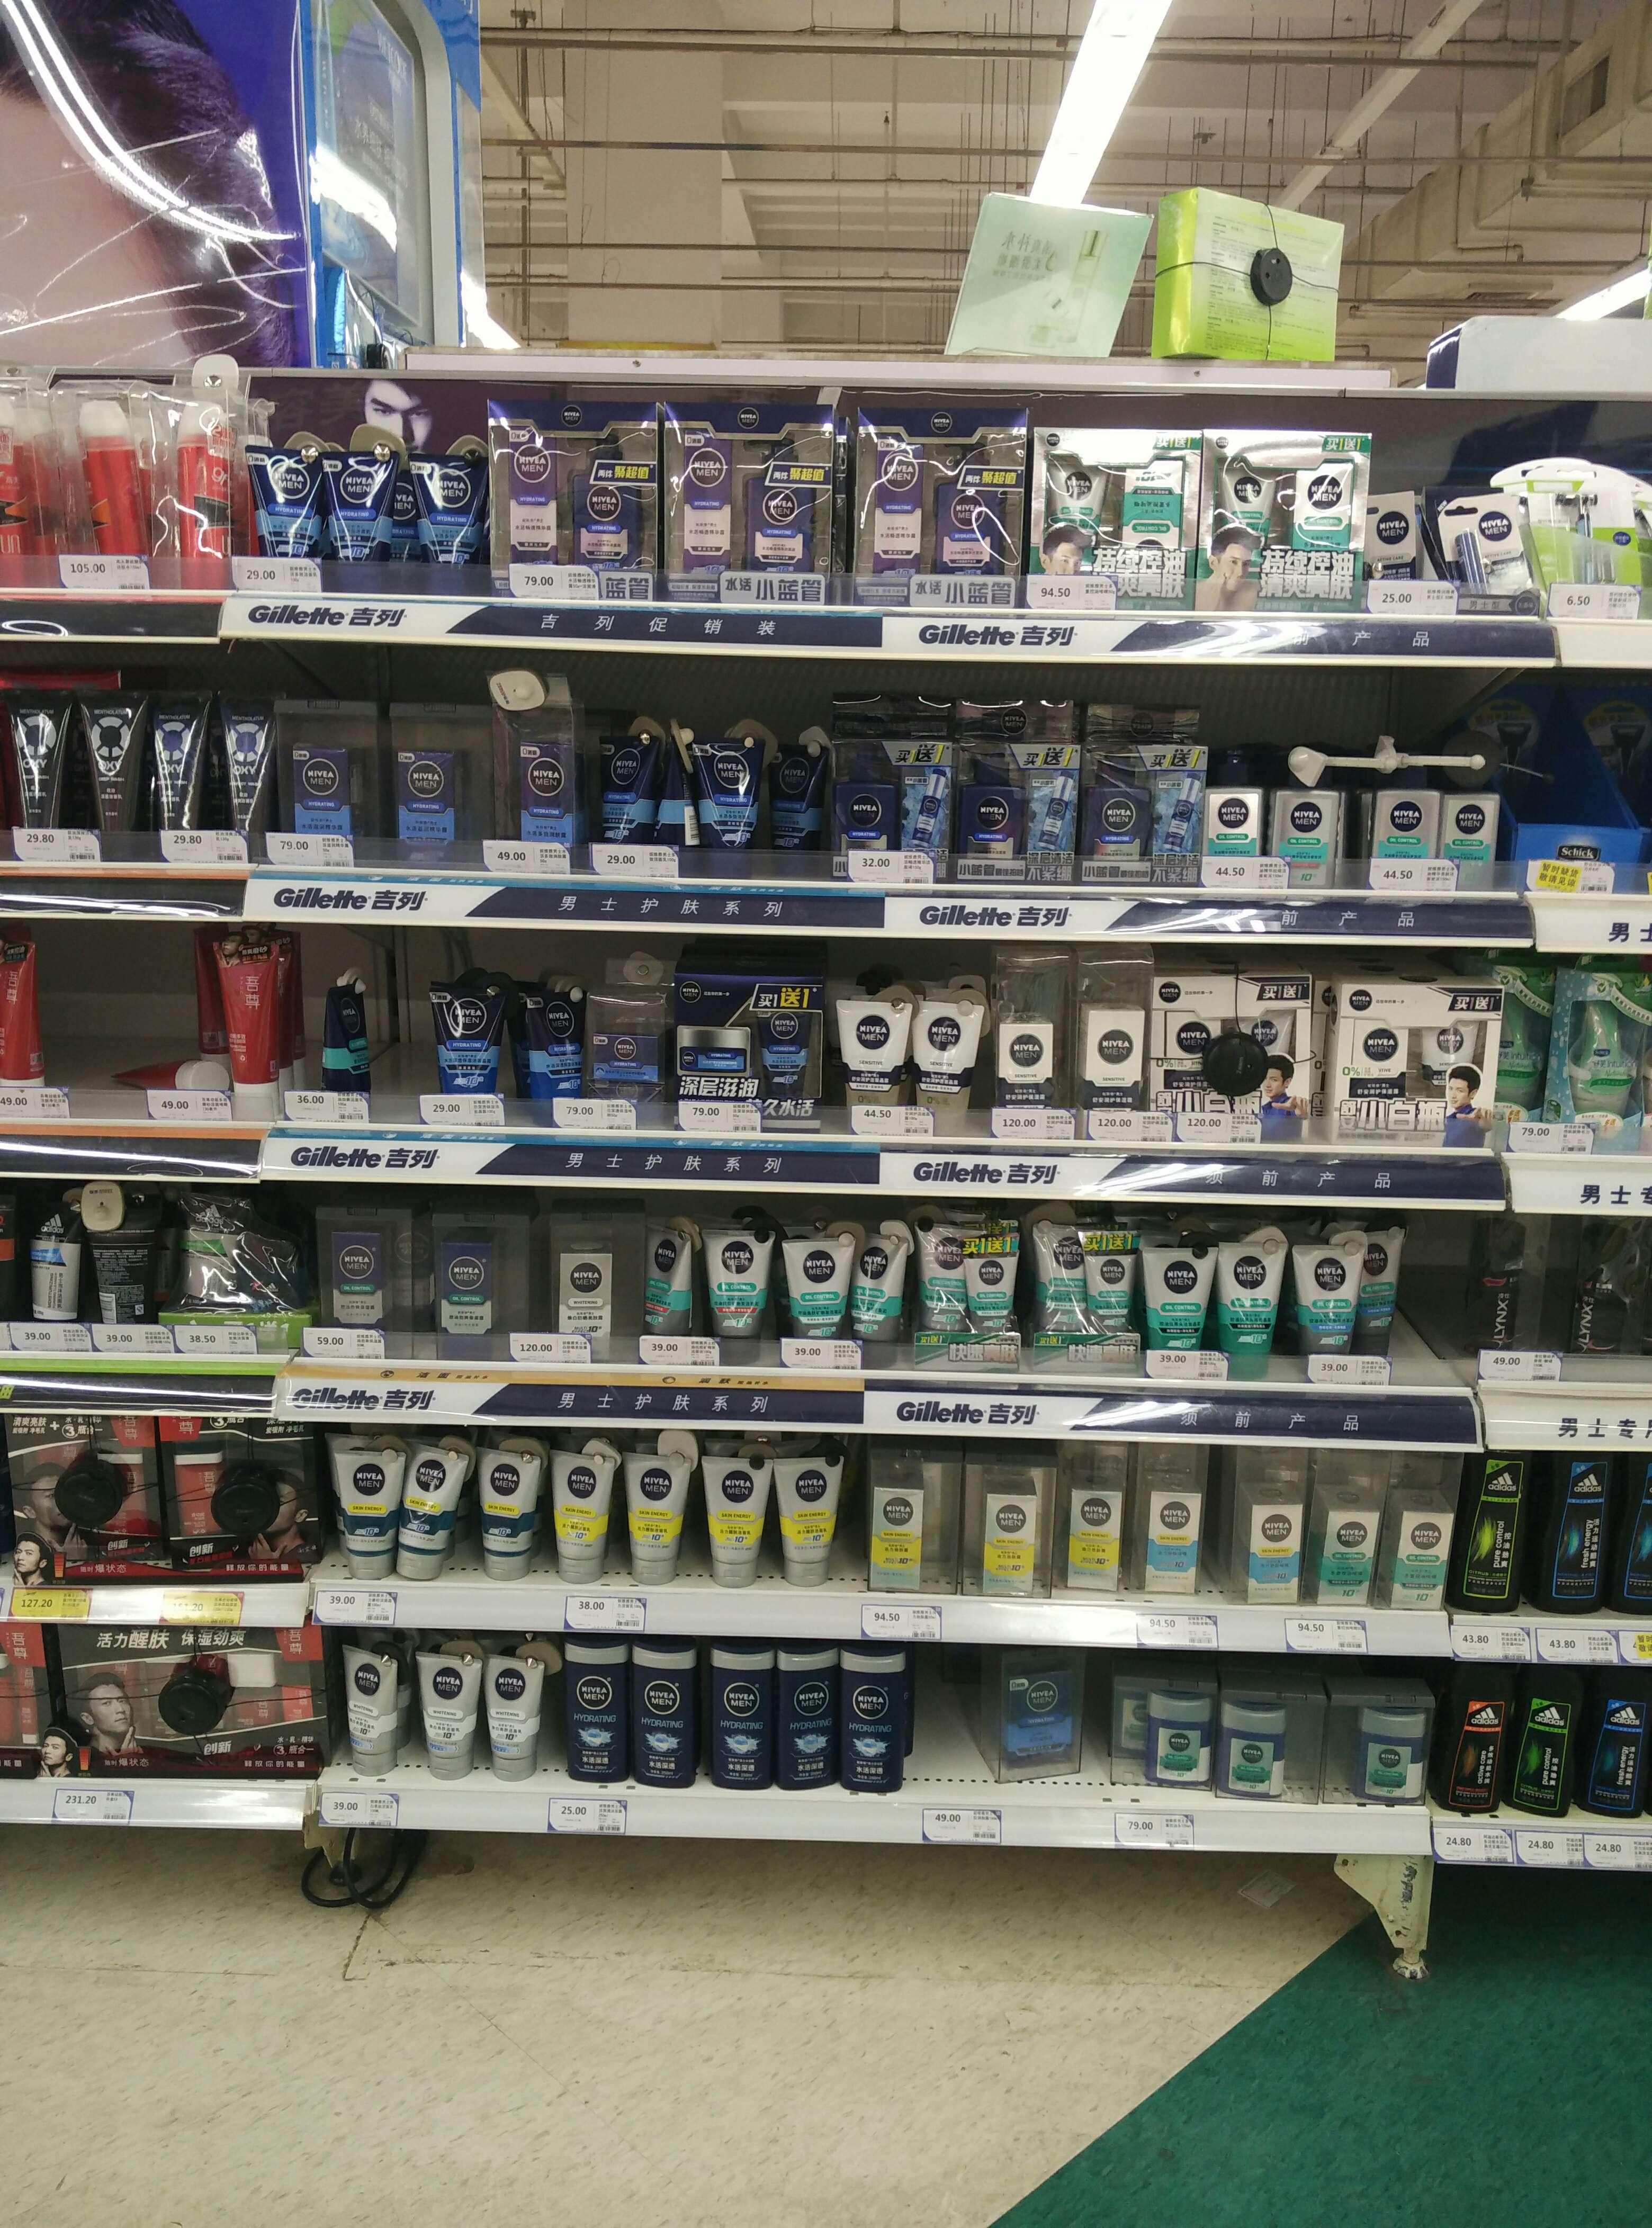misalignment: (1150, 170, 1347, 366), (935, 1640, 1083, 1787), (519, 989, 587, 1111), (404, 1442, 463, 1576), (592, 729, 656, 847), (764, 744, 824, 868), (116, 1043, 233, 1102), (319, 987, 377, 1104), (1357, 491, 1421, 585), (857, 1237, 906, 1357), (649, 1230, 698, 1343), (656, 737, 696, 854)
